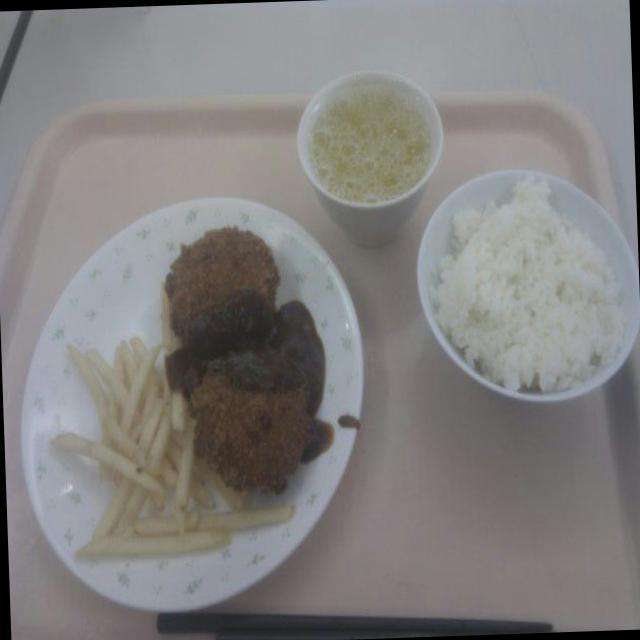Rice: (433, 180, 619, 396)
